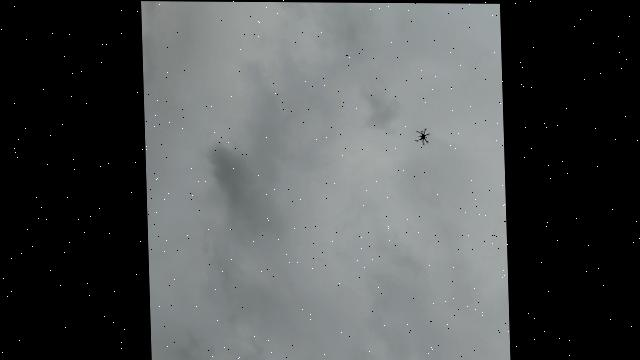drone: (411, 126, 431, 146)
